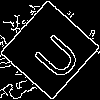U: (25, 25, 84, 84)
